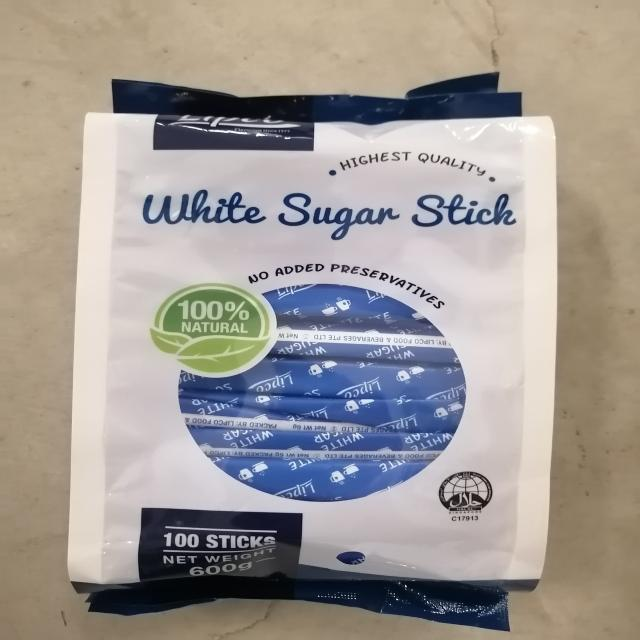object_name: (88, 107, 536, 600)
